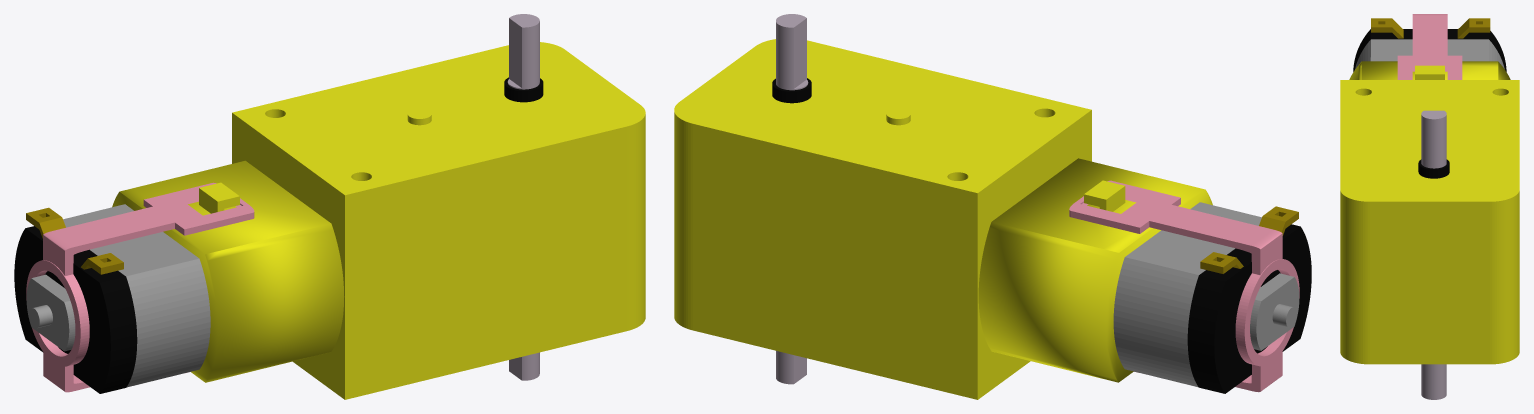
File: bomotor.glb
3 renders of one model, left to right at view 1: azimuth 30°, elevation 25°; view 2: azimuth 150°, elevation 25°; view 3: azimuth 270°, elevation 25°, orthographic. The views are drawn at different scales.
Parts seen in each view (by area): view 1: Cube_0, Cylinder_1, Cylinder.001_2, Cylinder.008_9, Cube.004_11, Cylinder.009_10, Cylinder.011_13, Cylinder.002_3, Cube.001_7, Cube.005_12, Cube.006_15, Cube.002_14 (+1 smaller); view 2: Cube_0, Cylinder_1, Cylinder.001_2, Cylinder.008_9, Cube.004_11, Cylinder.009_10, Cylinder.011_13, Cylinder.002_3, Cube.001_7, Cube.005_12, Cube.002_14, Cube.006_15 (+1 smaller); view 3: Cube_0, Cube.004_11, Cylinder.009_10, Cylinder.001_2, Cylinder_1, Cylinder.008_9, Cube.006_15, Cube.002_14, Cube.001_7, Cylinder.007_6.
Boxes of the visible parts, bbox=[...] form: Cube_0: bbox=[232, 42, 645, 399]; Cylinder_1: bbox=[112, 160, 344, 382]; Cylinder.001_2: bbox=[63, 204, 210, 387]; Cylinder.008_9: bbox=[14, 226, 137, 393]; Cube.004_11: bbox=[43, 182, 254, 275]; Cylinder.009_10: bbox=[507, 14, 539, 380]; Cylinder.011_13: bbox=[26, 260, 89, 366]; Cylinder.002_3: bbox=[26, 274, 75, 351]; Cube.001_7: bbox=[199, 182, 239, 213]; Cube.005_12: bbox=[43, 352, 186, 392]; Cube.006_15: bbox=[26, 207, 65, 238]; Cube.002_14: bbox=[81, 253, 123, 274]; Cube_0: bbox=[674, 39, 1091, 399]; Cylinder_1: bbox=[978, 158, 1212, 382]; Cylinder.001_2: bbox=[1113, 202, 1261, 387]; Cylinder.008_9: bbox=[1187, 224, 1311, 393]; Cube.004_11: bbox=[1069, 180, 1282, 275]; Cylinder.009_10: bbox=[776, 14, 808, 384]; Cylinder.011_13: bbox=[1235, 259, 1299, 366]; Cylinder.002_3: bbox=[1250, 273, 1299, 350]; Cube.001_7: bbox=[1084, 180, 1125, 211]; Cube.005_12: bbox=[1134, 351, 1282, 392]; Cube.002_14: bbox=[1259, 206, 1298, 235]; Cube.006_15: bbox=[1200, 252, 1243, 273]; Cube_0: bbox=[1340, 80, 1519, 364]; Cube.004_11: bbox=[1397, 14, 1462, 79]; Cylinder.009_10: bbox=[1421, 110, 1446, 399]; Cylinder.001_2: bbox=[1355, 39, 1504, 69]; Cylinder_1: bbox=[1349, 61, 1510, 79]; Cylinder.008_9: bbox=[1353, 29, 1506, 71]; Cube.006_15: bbox=[1457, 18, 1490, 38]; Cube.002_14: bbox=[1371, 18, 1403, 38]; Cube.001_7: bbox=[1415, 65, 1444, 79]; Cylinder.007_6: bbox=[1418, 159, 1449, 178].
Bounding box in the file's own units: 5.81 × 3.45 × 2.
